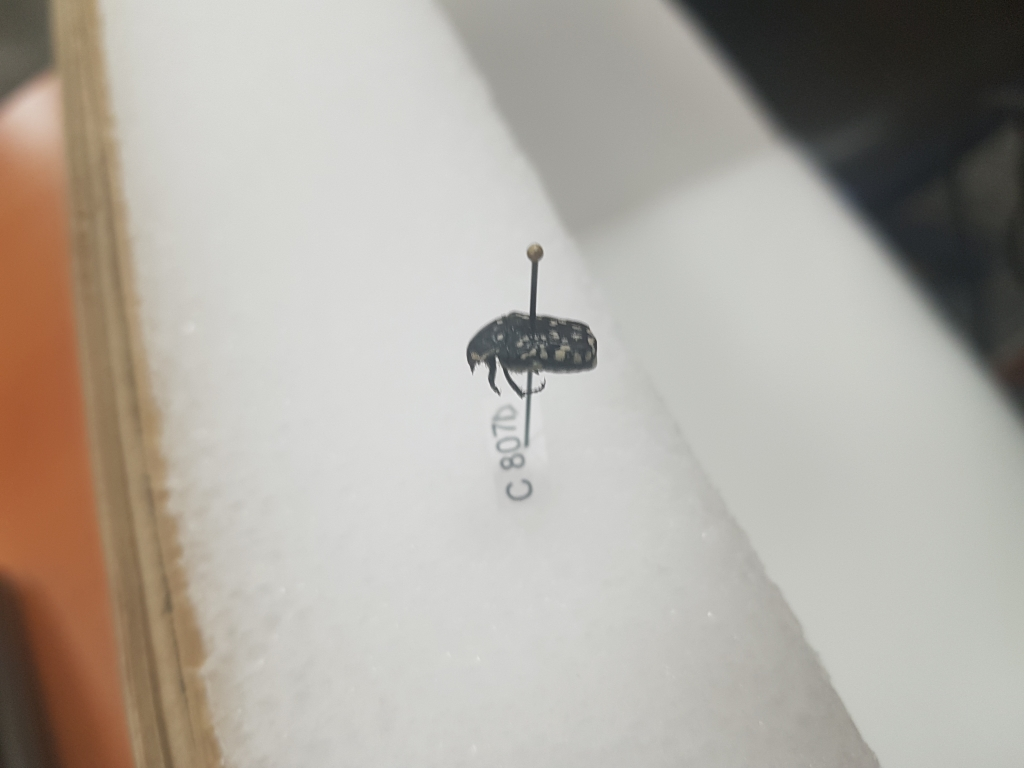Oxythyrea_albopicta: (462, 306, 602, 398)
